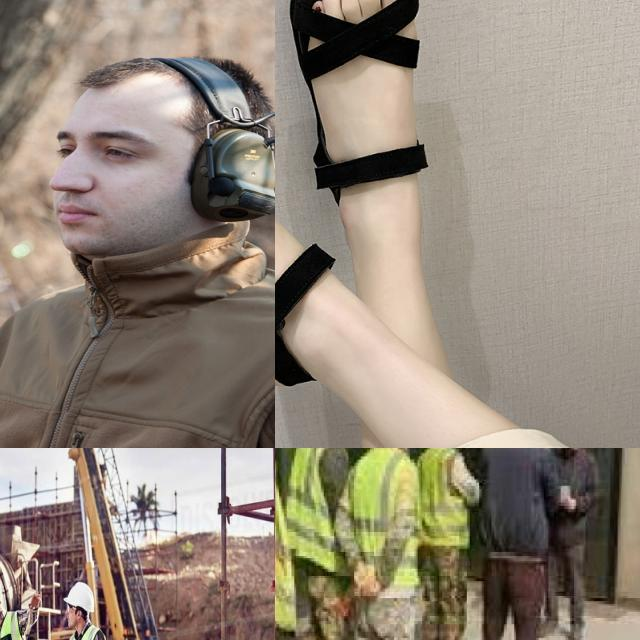Ear-protection: (44, 49, 275, 278)
No_Glasses: (3, 104, 178, 187)
Sandals: (275, 0, 461, 448)
face_nomask: (62, 604, 85, 630), (0, 585, 7, 611)
hand_noglove: (28, 592, 44, 620)
head_helmet: (62, 579, 99, 613), (0, 569, 6, 598)
person: (0, 32, 275, 448), (62, 578, 103, 640)
